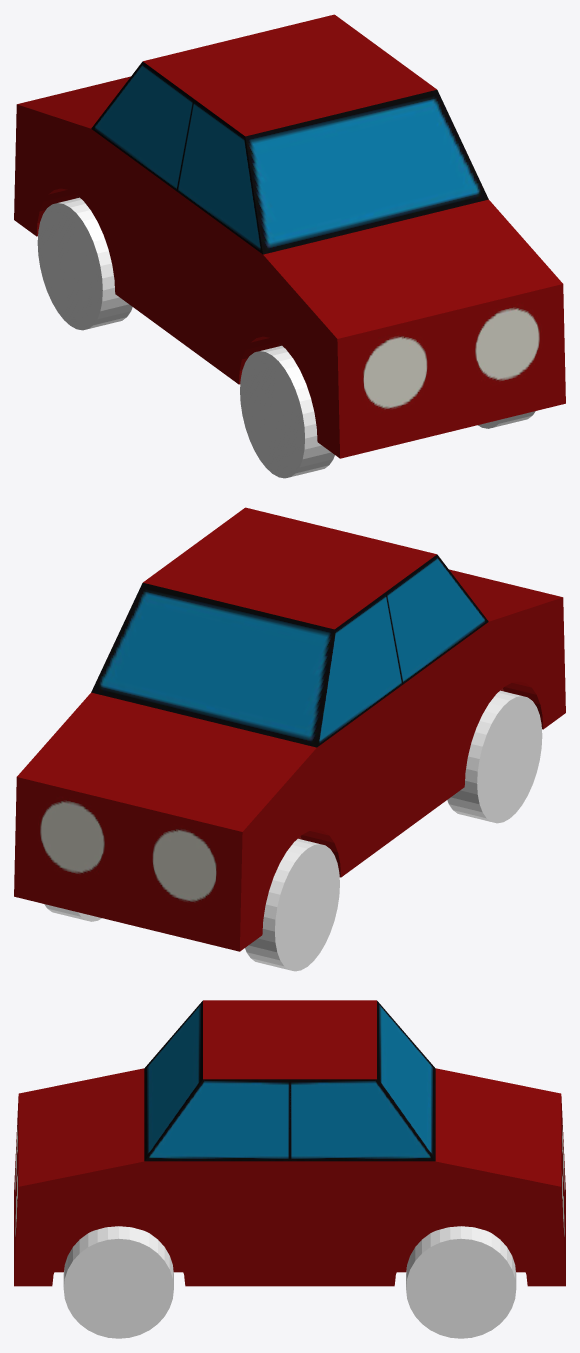
The model's file is Voiture.glb.
3 views of the same model, one above another, from view 1: azimuth 30°, elevation 25°; view 2: azimuth 150°, elevation 25°; view 3: azimuth 270°, elevation 25° (orthographic). The views are drawn at different scales.
Visible parts, largest first — view 1: VoitureChassis, Roues; view 2: VoitureChassis, Roues; view 3: VoitureChassis, Roues.
Part boxes in pixels (bbox=[...]): VoitureChassis: bbox=[14, 14, 565, 458]; Roues: bbox=[37, 197, 535, 478]; VoitureChassis: bbox=[14, 507, 565, 951]; Roues: bbox=[44, 690, 542, 971]; VoitureChassis: bbox=[14, 1000, 565, 1286]; Roues: bbox=[63, 1226, 516, 1338].
Size of the model in its own units: 2.1 by 2.5 by 5.
Materials: 2 (1 with a texture image).
